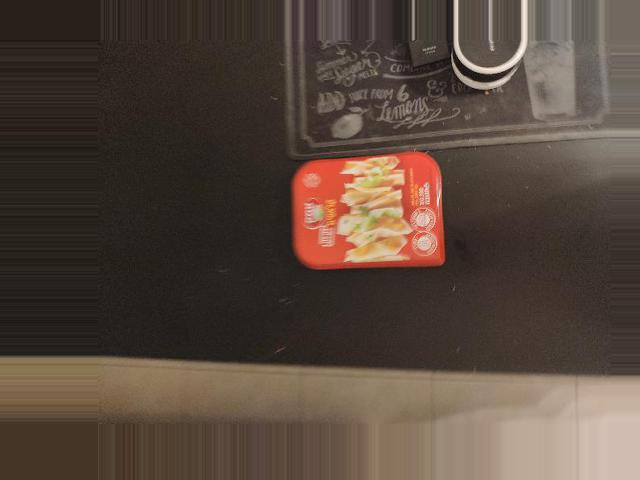cheese: (289, 152, 451, 267)
